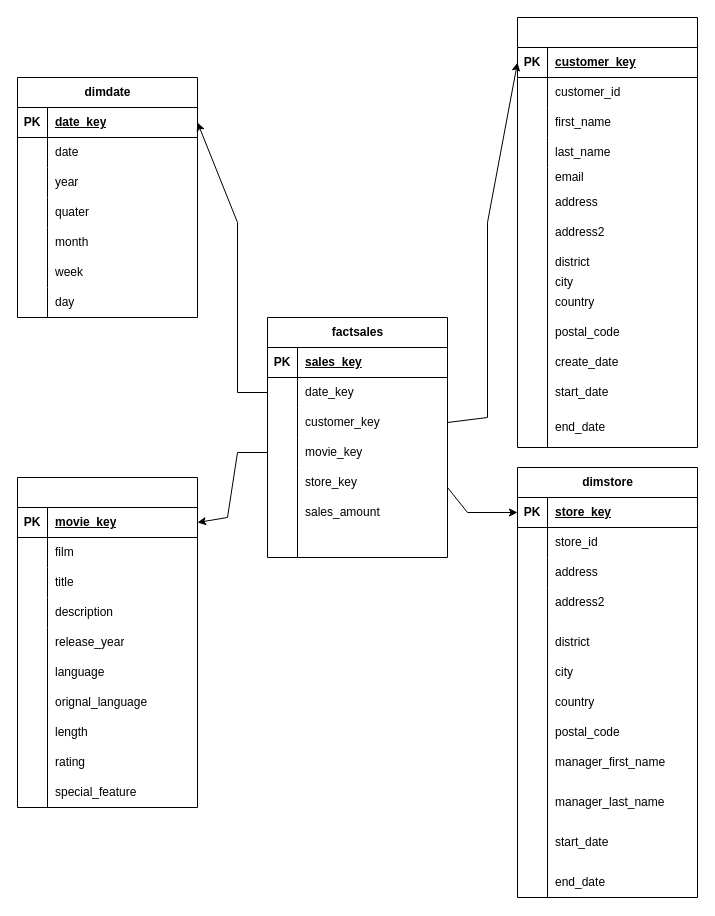
This 715x916 diagram has some shape labels left out. The shapes that lost their labels are listed below. From the top down, each one's box as (x1, y1, x2, y2) in pixels, then its label:
(516, 16, 698, 448): dimcustomer
(16, 476, 198, 808): dimmovie
